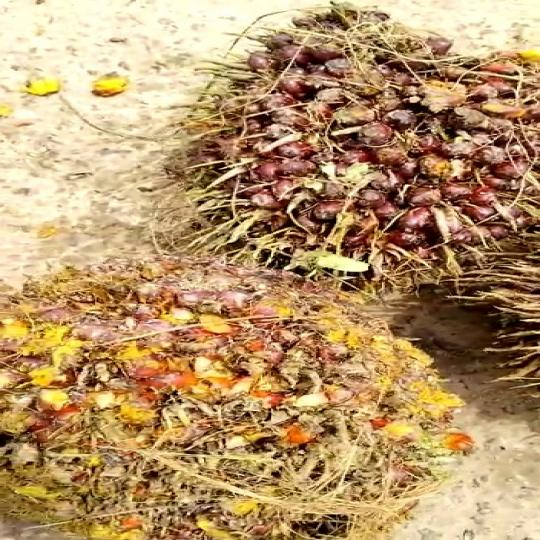masak: (0, 255, 484, 539), (135, 0, 538, 298)
